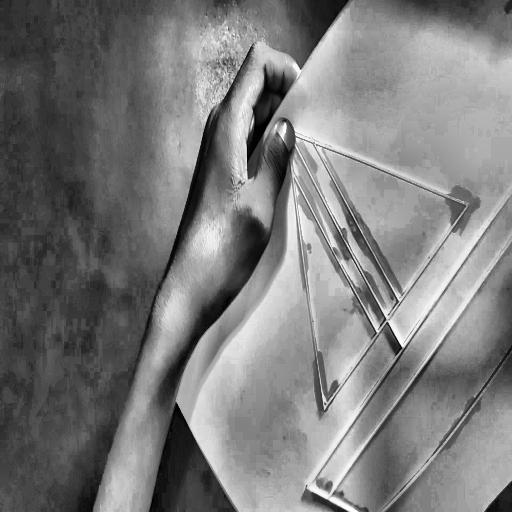boat: (181, 0, 512, 512)
